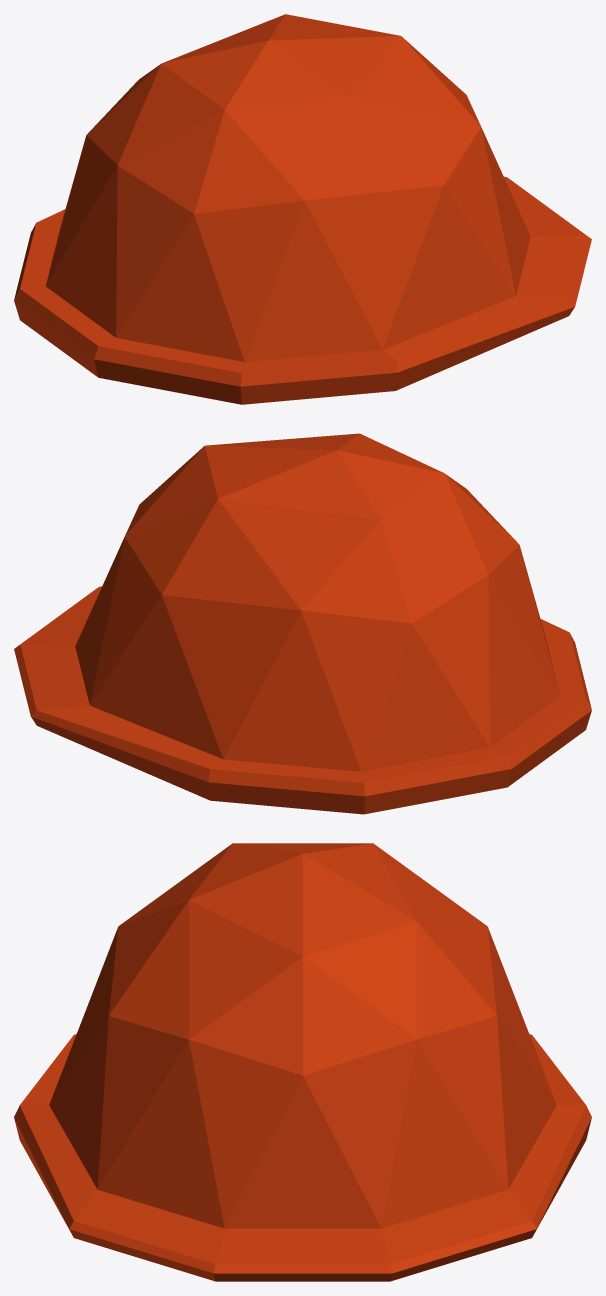
Rendered from helmet.glb.
3 views of the same model, one above another, from view 1: azimuth 30°, elevation 25°; view 2: azimuth 150°, elevation 25°; view 3: azimuth 270°, elevation 25° (orthographic). The views are drawn at different scales.
Parts seen in each view (by area): view 1: Helmet; view 2: Helmet; view 3: Helmet.
Part boxes in pixels (x1,y1,x2,y2): Helmet: (14,14,591,404); Helmet: (14,433,591,814); Helmet: (14,843,591,1281).
Size of the model in its own units: 0.33 by 0.163 by 0.2978.
